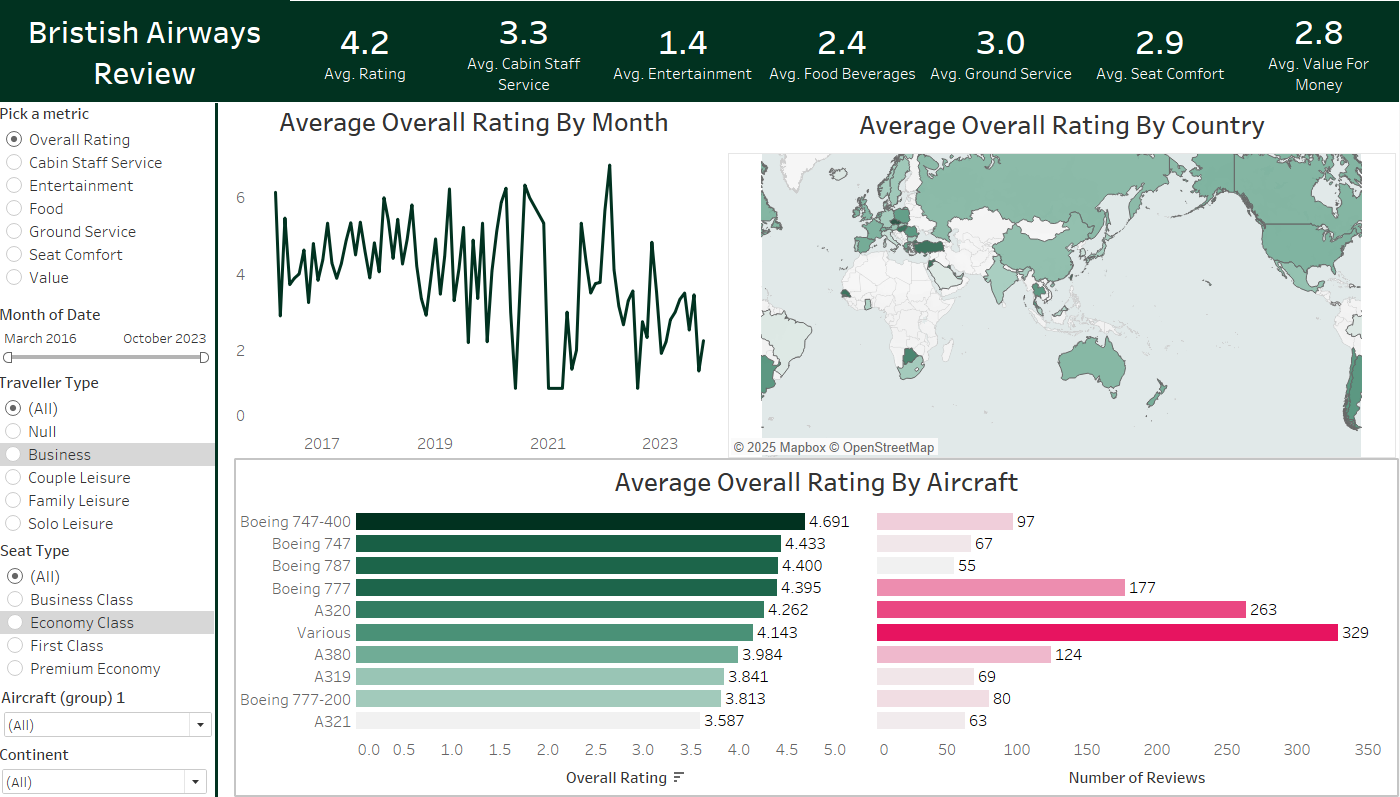

The page's visual inventory and layout, read from the dashboard file:
{"tool":"tableau","page":{"name":"Dashboard 1","canvas":[1400,800],"ordinal":0},"visuals":[{"type":"text","box":[0,0,290.5,101.7]},{"type":"worksheet","title":"Summary","mark":"Automatic","box":[287,1.1,1113,100.6]},{"type":"worksheet","title":"Month","mark":"Automatic","rows":["Calculation_381680134820347904"],"cols":["date"],"box":[223,100,504,356]},{"type":"parameter","param":"[Parameters].[Parameter 1]","box":[0,102.9,228.7,216]},{"type":"blank","box":[216,103,3,695]},{"type":"worksheet","title":"Map","mark":"Automatic","box":[729,103,668,355]},{"type":"filter","title":"Map","param":"[federated.1s9ep7u1qatvh21g1163r0p9tkuv].[tmn:date:qk]","box":[0,304,213.5,75]},{"type":"worksheet","title":"Aircraft","mark":"Automatic","cols":["Calculation_381680134820347904","ba_reviews.csv_94B696F0D73C47939EC96CFA86542833"],"box":[237,460,1161,335]},{"type":"filter","title":"Map","param":"[federated.1s9ep7u1qatvh21g1163r0p9tkuv].[none:seat_type:nk]","box":[1.2,540,213.5,163]},{"type":"filter","title":"Map","param":"[federated.1s9ep7u1qatvh21g1163r0p9tkuv].[Aircraft (group) 1]","box":[2.3,687,213.5,61]},{"type":"filter","title":"Map","param":"[federated.1s9ep7u1qatvh21g1163r0p9tkuv].[none:Continent:nk]","box":[0,744,211.2,60]}]}

Visuals, with their boxes in screenshot pixels (x1, y1, x2, y2), scaled from the page's 1400x800 canvas onto the 1400x797 screenshot:
text: 0,0,290,101
"Summary" worksheet: 287,1,1399,101
"Month" worksheet: 223,100,727,454
parameter: 0,103,229,318
blank: 216,103,219,795
"Map" worksheet: 729,103,1397,456
"Map" filter: 0,303,214,378
"Aircraft" worksheet: 237,458,1398,792
"Map" filter: 1,538,215,700
"Map" filter: 2,684,216,745
"Map" filter: 0,741,211,796
